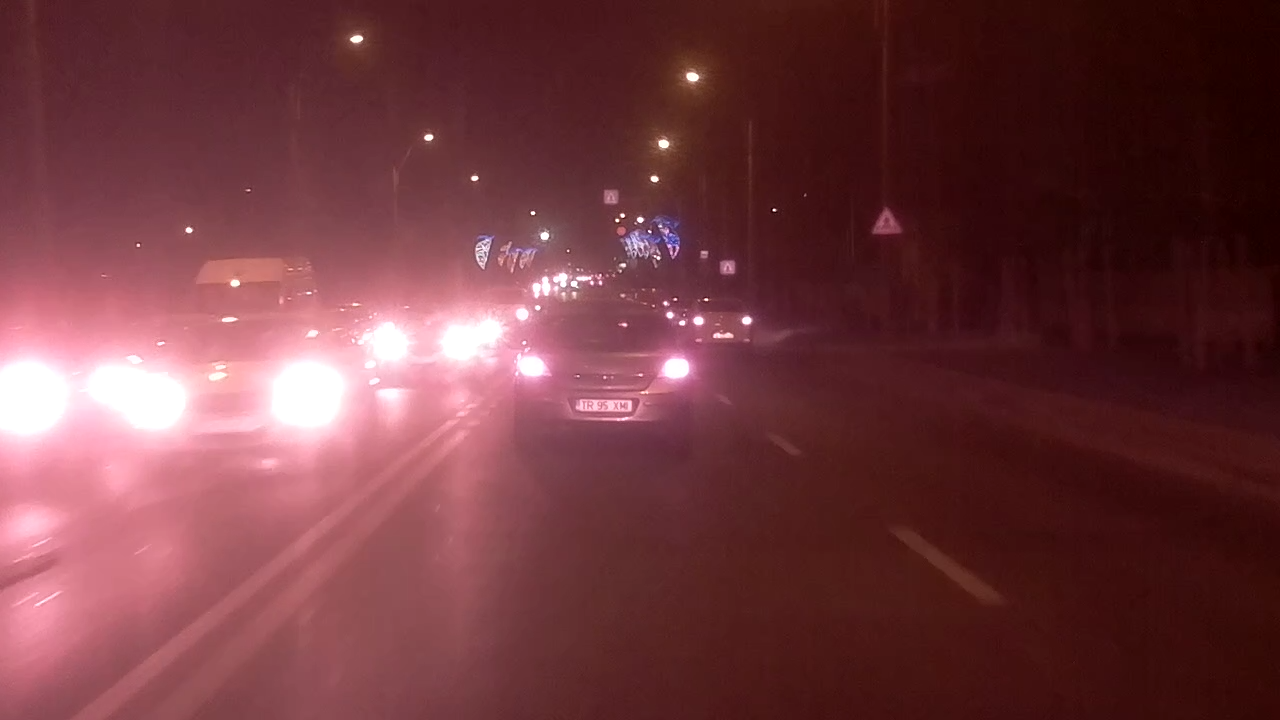license-plate: (571, 395, 634, 416)
